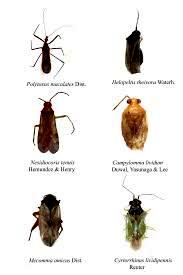Helopeltis-insect: (31, 94, 61, 157), (36, 189, 66, 247), (120, 91, 148, 153), (123, 197, 148, 253), (122, 32, 148, 75), (38, 28, 57, 78)
